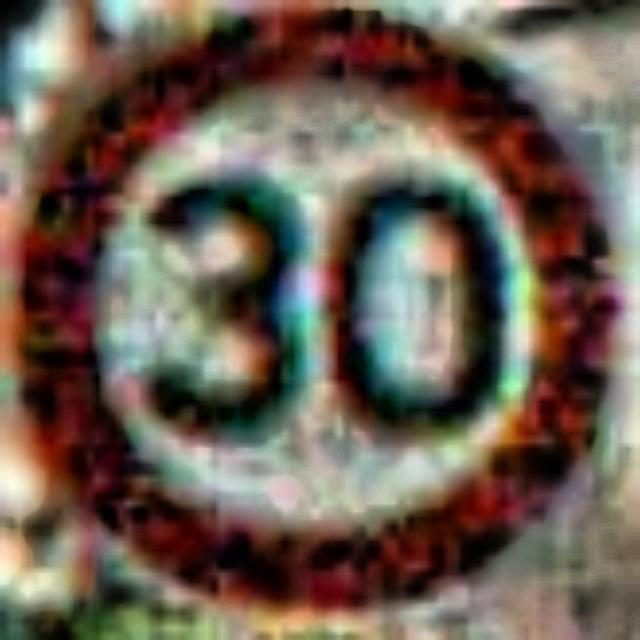speed_30: (11, 13, 632, 611)
